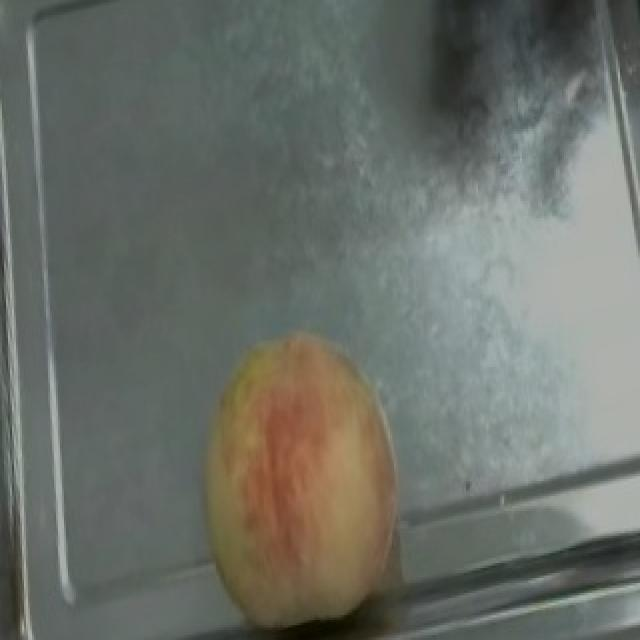Fruit: (174, 315, 440, 640)
